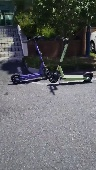beam: (10, 35, 52, 85)
gcooter: (47, 38, 94, 84)
